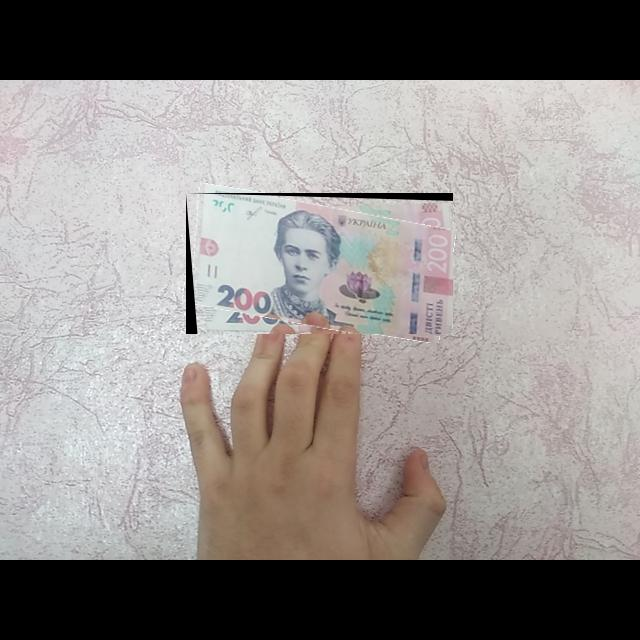200uah: (186, 193, 454, 335)
